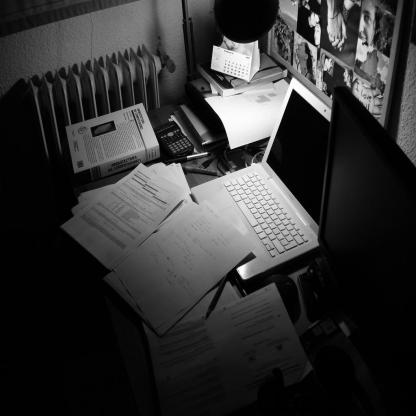board: (190, 74, 333, 282)
